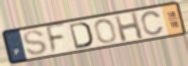C: (141, 10, 166, 36)
D: (68, 21, 94, 50)
F: (44, 22, 67, 56)
H: (113, 11, 146, 43)
O: (93, 17, 118, 44)
S: (22, 29, 49, 57)
